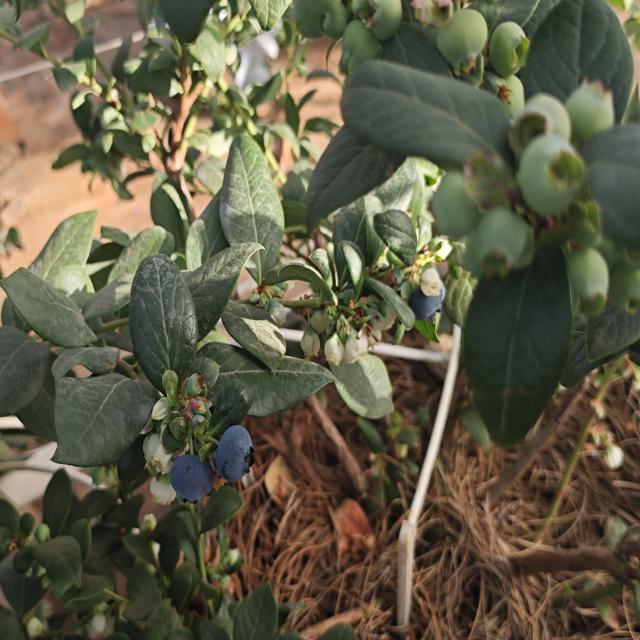ripe: (212, 416, 259, 480), (167, 443, 207, 503), (409, 267, 448, 327)
